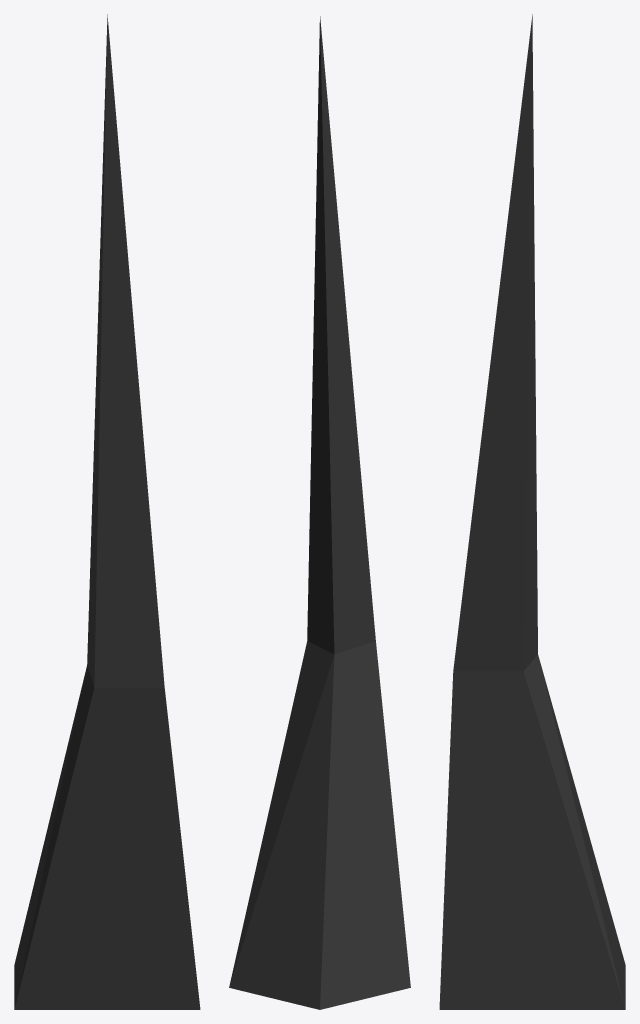
File: Stal_1D_LOD.fbx
3 renders of one model, left to right at view 1: azimuth 30°, elevation 25°; view 2: azimuth 150°, elevation 25°; view 3: azimuth 270°, elevation 25°, orthographic. The views are drawn at different scales.
Visible parts, largest first — view 1: pCone42; view 2: pCone42; view 3: pCone42.
Part boxes in pixels (x1,y1,x2,y2): pCone42: (14, 14, 200, 1009); pCone42: (229, 16, 410, 1009); pCone42: (439, 14, 625, 1009).
Size of the model in its own units: 0.45 by 3 by 0.5196.
